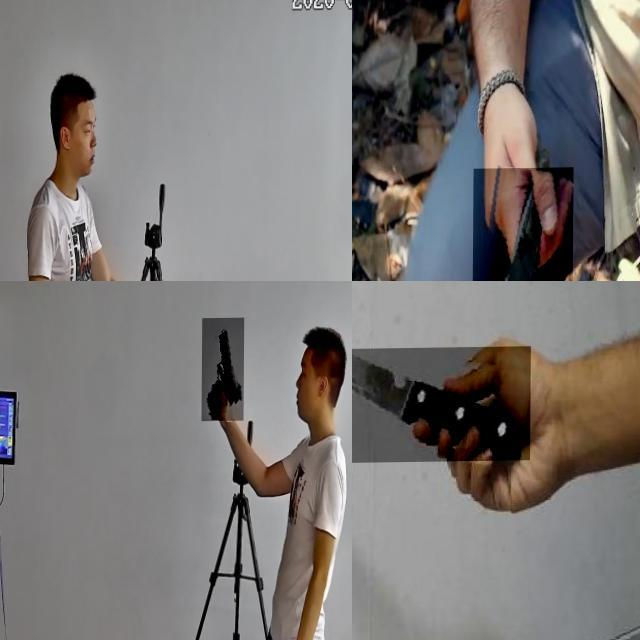-: (352, 348, 531, 464), (472, 167, 573, 281)
gun-knife-thesis - v11 Yolov5 augmented: (202, 318, 244, 422)
